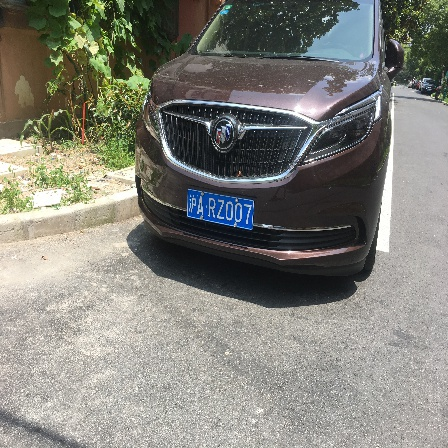plate: (181, 182, 260, 238)
